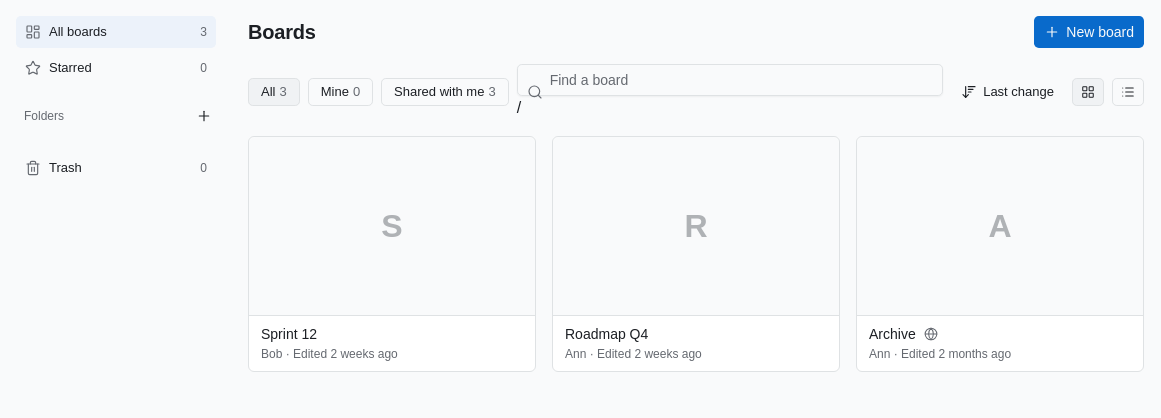
Test case: finds a board from the keyboard: slash, typing, arrows and Enter
Press /
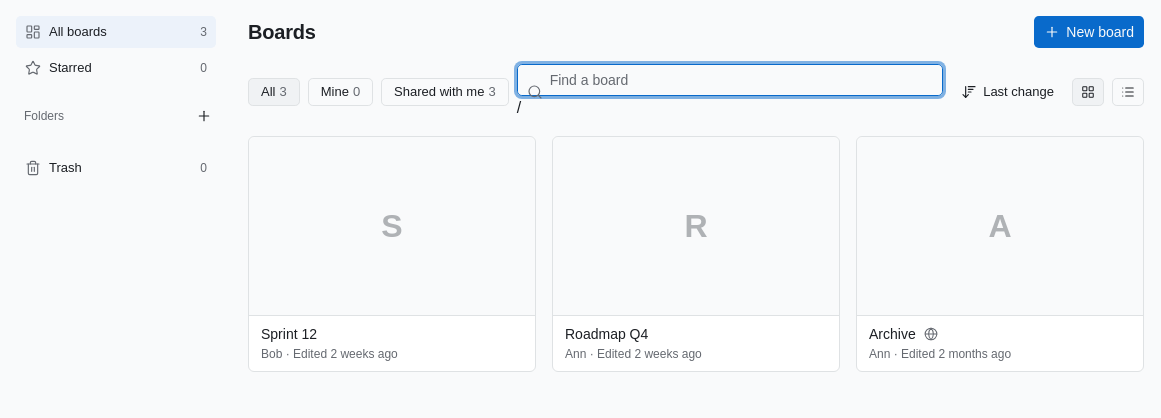
Press ArrowDown in the field labelled "Find a board", box [517, 64, 943, 96]
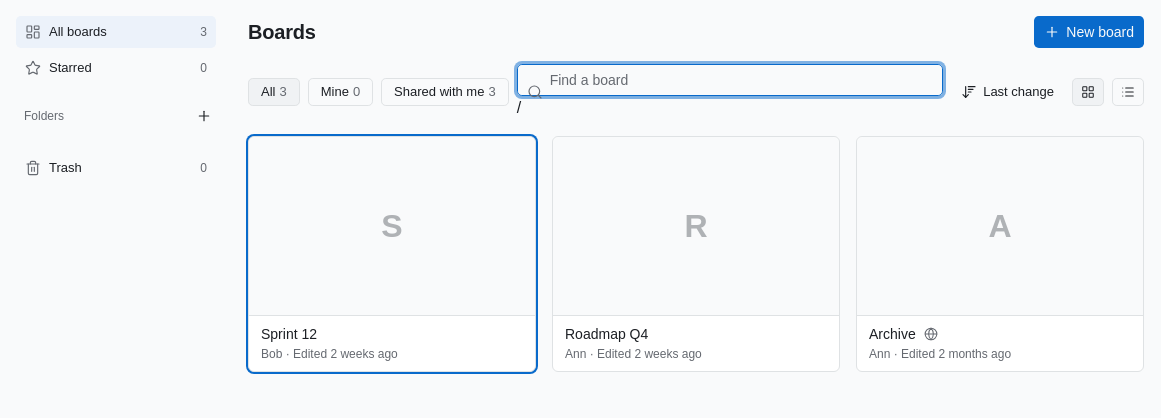
Expected: the list item "S Sprint 12 Bob · Edited 2 weeks ago" is shown, [248, 136, 536, 372]
In the field labelled "Find a board": (730, 80) [517, 64, 943, 96], type "a"
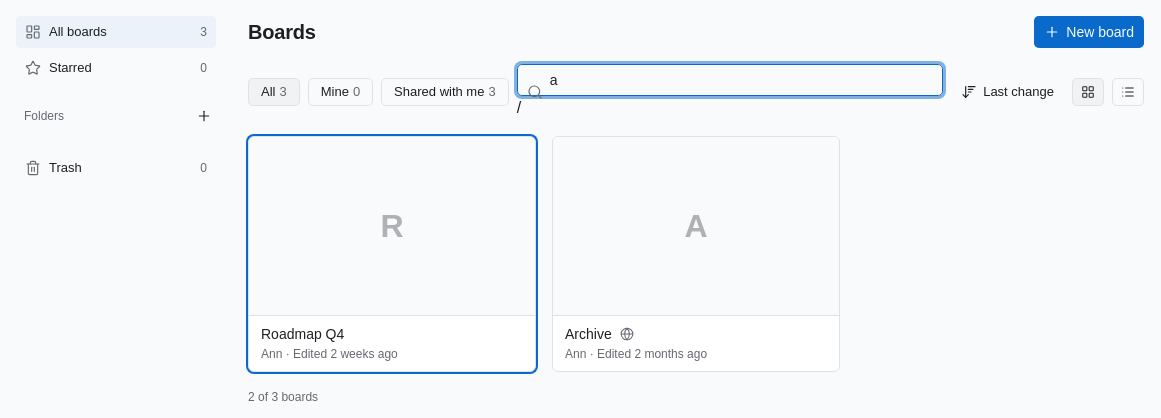
Press ArrowDown in the field named "Find a board", box [517, 64, 943, 96]
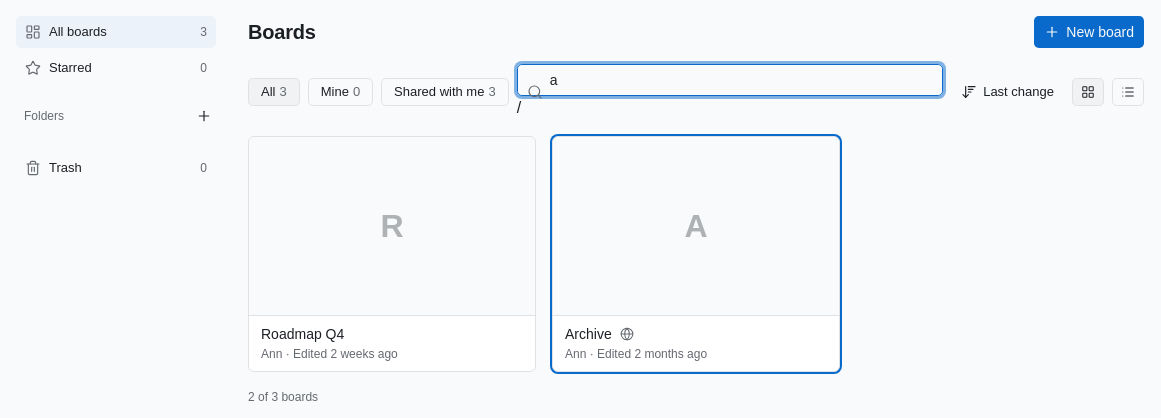
Press Enter in the field named "Find a board", box [517, 64, 943, 96]
Replace the text in the field named "Find a board" with "nothing like it": (730, 80) [517, 64, 943, 96]
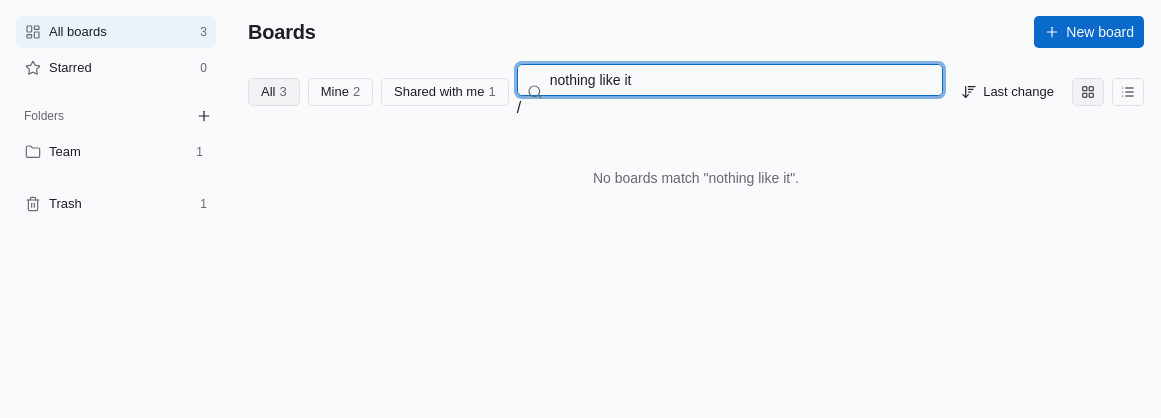
Result: the text "No boards match \"nothing like it\"." is shown at [593, 170, 799, 186]
